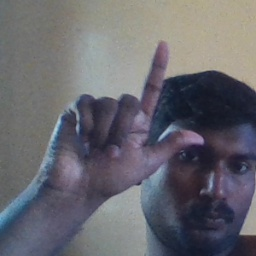L: (36, 40, 207, 193)
